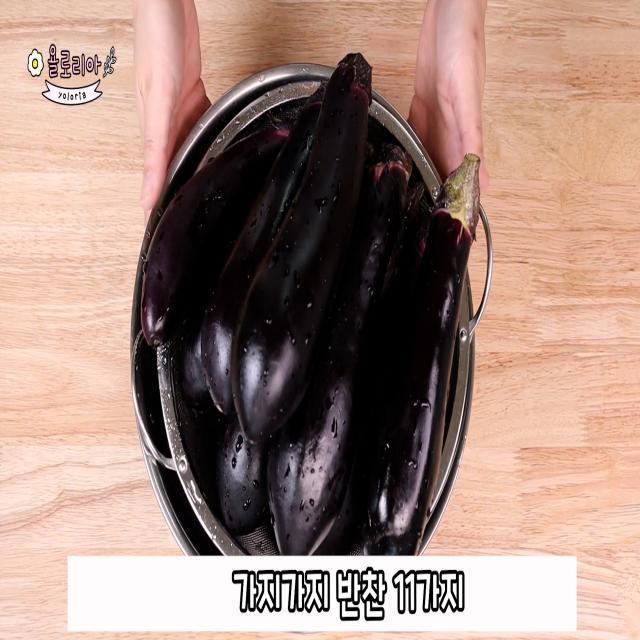eggplant: (330, 146, 497, 548), (244, 54, 360, 456)
